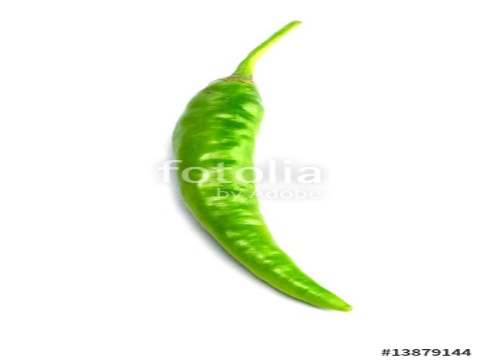Chilli: (156, 18, 377, 327)
